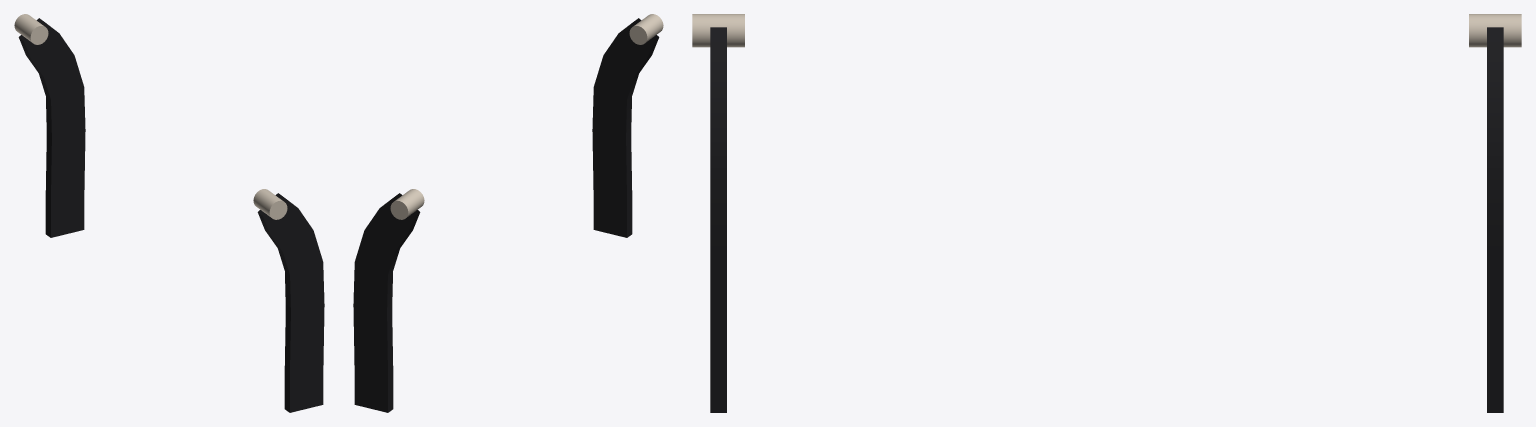
The model's file is SM_Wing_Struts.fbx.
The picture shows the model from 3 angles, left to right: view 1: azimuth 30°, elevation 25°; view 2: azimuth 150°, elevation 25°; view 3: azimuth 270°, elevation 25°; orthographic projection. The views are drawn at different scales.
Parts seen in each view (by area): view 1: Export_Wing_Struts; view 2: Export_Wing_Struts; view 3: Export_Wing_Struts.
Boxes of the visible parts, x1=… form: Export_Wing_Struts: x1=14, y1=14, x2=324, y2=412; Export_Wing_Struts: x1=353, y1=14, x2=663, y2=412; Export_Wing_Struts: x1=692, y1=14, x2=1521, y2=412.
Bounding box in the file's own units: 0.79 × 0.1103 × 0.376.
